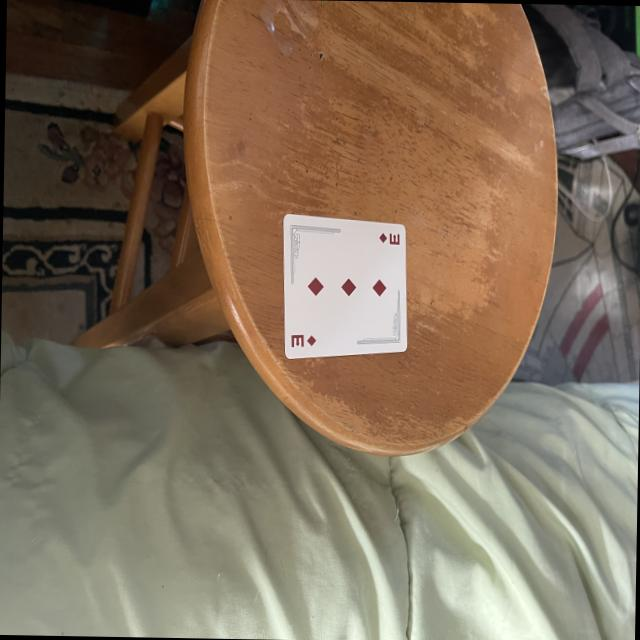3 of diamonds: (278, 212, 407, 364)
